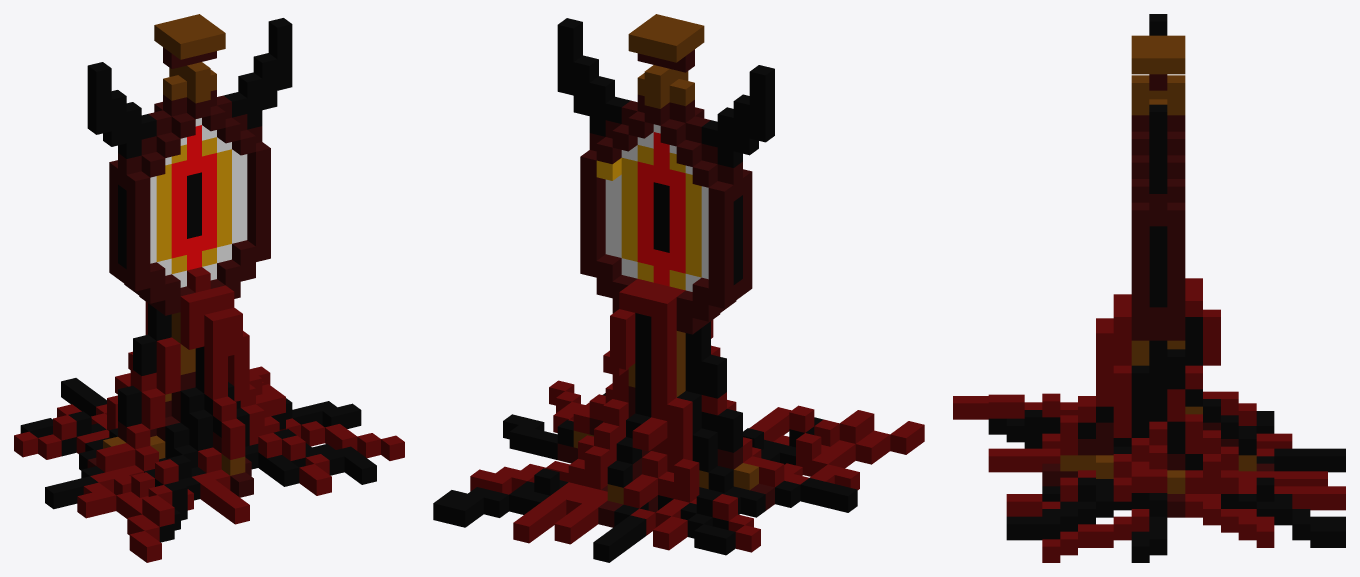
File: Drago_Tomas_Mateo_Buitrago_Gutiérrez_fase_4.obj
3 renders of one model, left to right at view 1: azimuth 30°, elevation 25°; view 2: azimuth 150°, elevation 25°; view 3: azimuth 270°, elevation 25°, orthographic. The views are drawn at different scales.
Parts seen in each view (by area): view 1: Drago_Tomas_Mateo_Buitrago_Gutiérrez_fase_4; view 2: Drago_Tomas_Mateo_Buitrago_Gutiérrez_fase_4; view 3: Drago_Tomas_Mateo_Buitrago_Gutiérrez_fase_4.
Boxes of the visible parts, box(x1,y1,x2,y2) form: Drago_Tomas_Mateo_Buitrago_Gutiérrez_fase_4: box(14, 14, 404, 562); Drago_Tomas_Mateo_Buitrago_Gutiérrez_fase_4: box(433, 14, 924, 562); Drago_Tomas_Mateo_Buitrago_Gutiérrez_fase_4: box(953, 14, 1345, 562).
Size of the model in its own units: 21 by 27 by 22.
